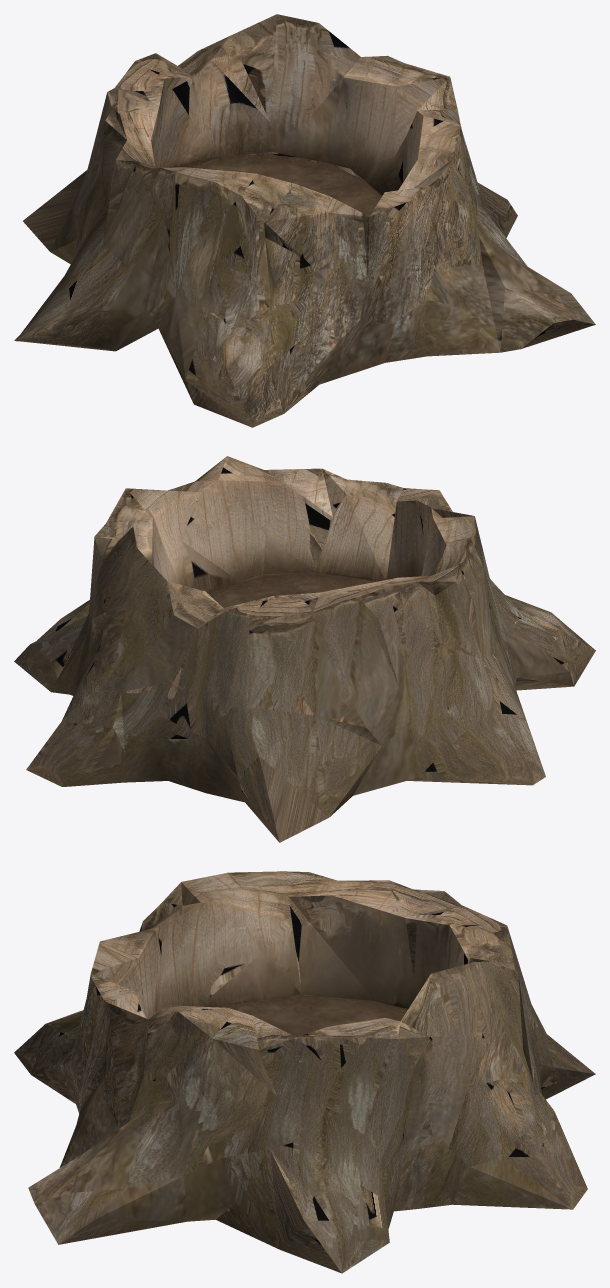
File: co_hollow_stump_lod1.glb
The picture shows the model from 3 angles, top to bottom: view 1: azimuth 30°, elevation 25°; view 2: azimuth 150°, elevation 25°; view 3: azimuth 270°, elevation 25°; orthographic projection. The views are drawn at different scales.
Visible parts, largest first — view 1: output_unwrapped; view 2: output_unwrapped; view 3: output_unwrapped.
Part boxes in pixels (<box>): output_unwrapped: <box>14,14,595,427</box>; output_unwrapped: <box>14,456,595,842</box>; output_unwrapped: <box>14,871,595,1273</box>.
Bounding box in the file's own units: 1.84 × 0.6924 × 1.68.
1 material, 1 textured.
